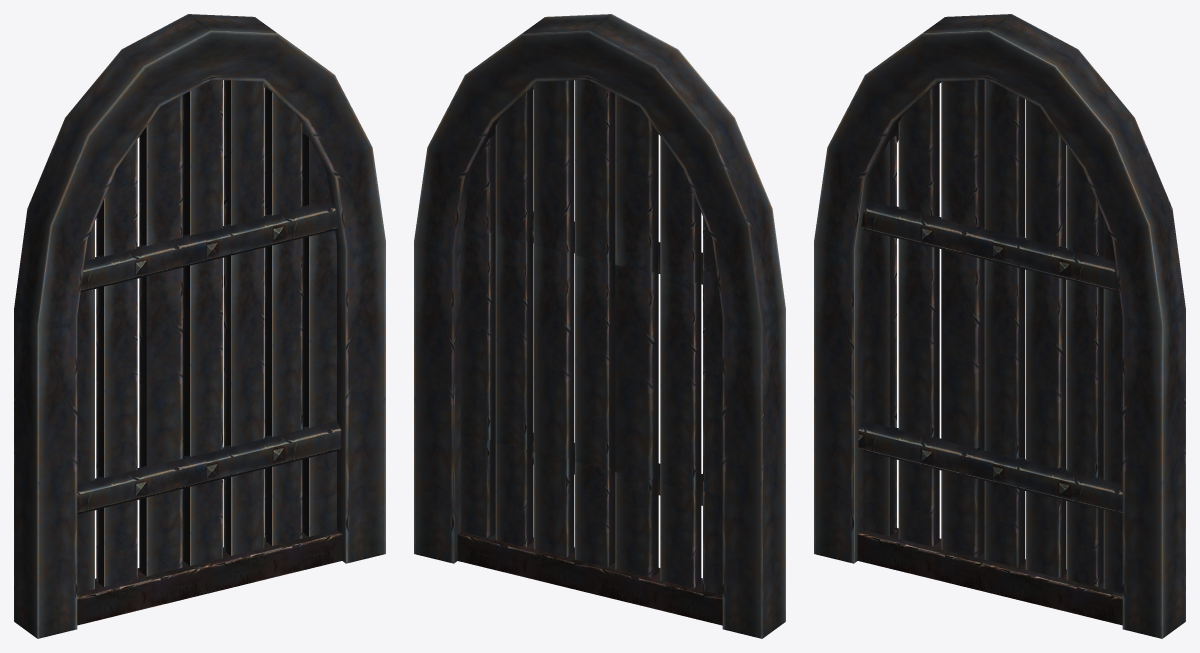
The model's file is B_men002.fbx.
3 views of the same model, side by side, from view 1: azimuth 30°, elevation 25°; view 2: azimuth 150°, elevation 25°; view 3: azimuth 330°, elevation 25° (orthographic).
Visible parts, largest first — view 1: B_men002; view 2: B_men002; view 3: B_men002.
Boxes of the visible parts, box(x1,y1,x2,y2) form: B_men002: box(14, 14, 385, 638); B_men002: box(414, 14, 785, 638); B_men002: box(814, 14, 1185, 638).
Size of the model in its own units: 298 by 462 by 34.87.
